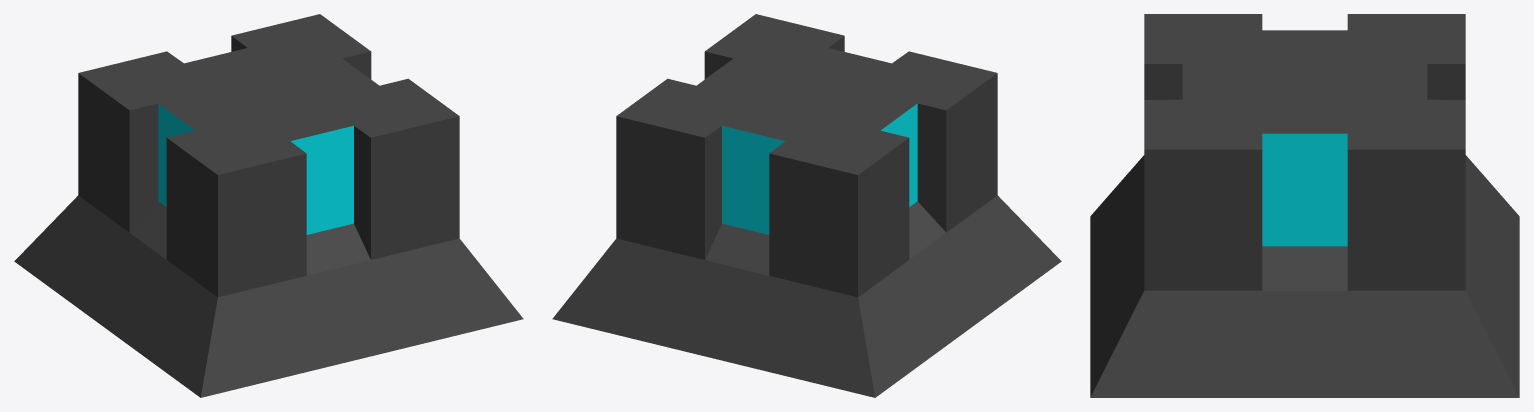
The model's file is Platform Pillar B.fbx.
3 renders of one model, left to right at view 1: azimuth 30°, elevation 25°; view 2: azimuth 150°, elevation 25°; view 3: azimuth 270°, elevation 25°, orthographic. The views are drawn at different scales.
Visible parts, largest first — view 1: Pillar B; view 2: Pillar B; view 3: Pillar B.
Part boxes in pixels (x1,y1,x2,y2): Pillar B: (14,14,523,397); Pillar B: (552,14,1061,397); Pillar B: (1090,14,1519,397).
Size of the model in its own units: 173 by 100 by 173.
